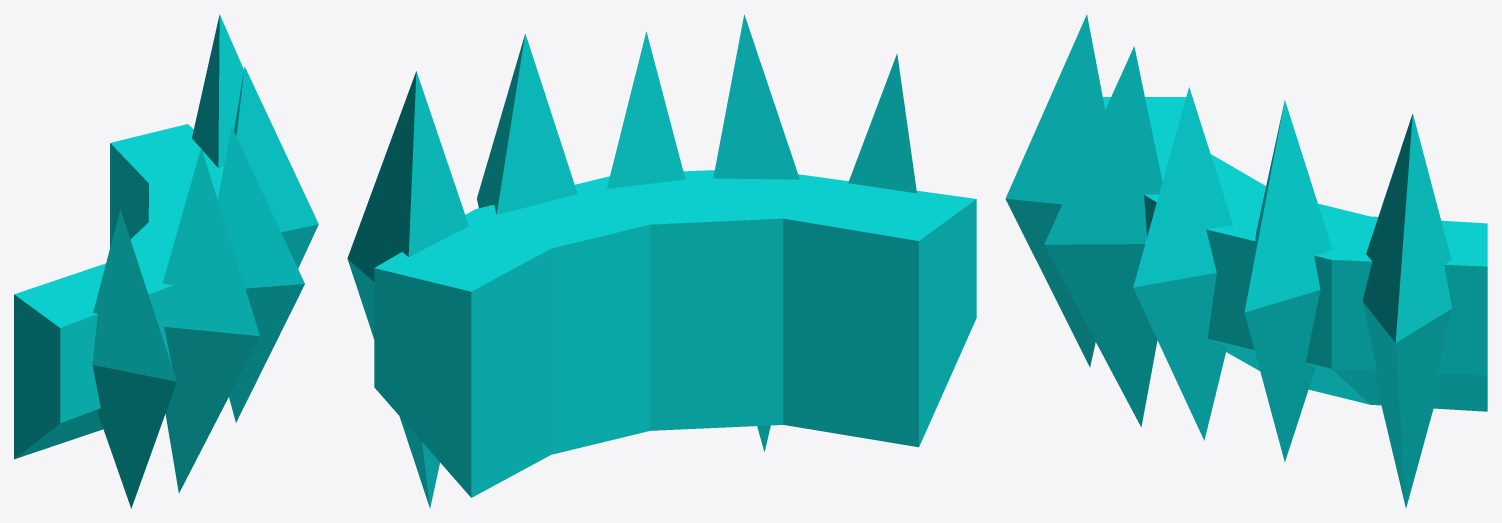
Rendered from SM_Bld_Battlements_Curve_03_Collision.fbx.
3 renders of one model, left to right at view 1: azimuth 30°, elevation 25°; view 2: azimuth 150°, elevation 25°; view 3: azimuth 270°, elevation 25°, orthographic. The views are drawn at different scales.
Visible parts, largest first — view 1: SM_Bld_Battlements_Curve_03_Collision; view 2: SM_Bld_Battlements_Curve_03_Collision; view 3: SM_Bld_Battlements_Curve_03_Collision.
Part boxes in pixels (x1,y1,x2,y2): SM_Bld_Battlements_Curve_03_Collision: (14, 14, 318, 508); SM_Bld_Battlements_Curve_03_Collision: (347, 14, 976, 508); SM_Bld_Battlements_Curve_03_Collision: (1005, 14, 1487, 508).
Bounding box in the file's own units: 415 × 382 × 414.
